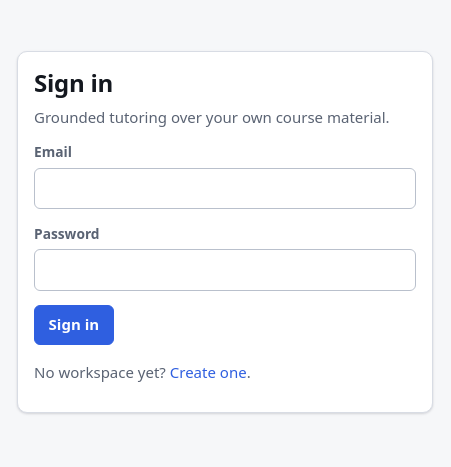
Test: login › surfaces the API error envelope, including the request id
This screenshot has width=451, height=467.
In the field labelled "Email": coordinates (225, 188) [34,168,416,209], type "student@example.edu"
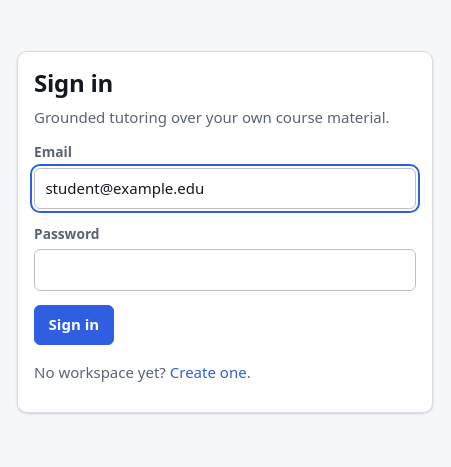
In the password field labelled "Password": coordinates (225, 270) [34,249,416,291], type "wrong-password"
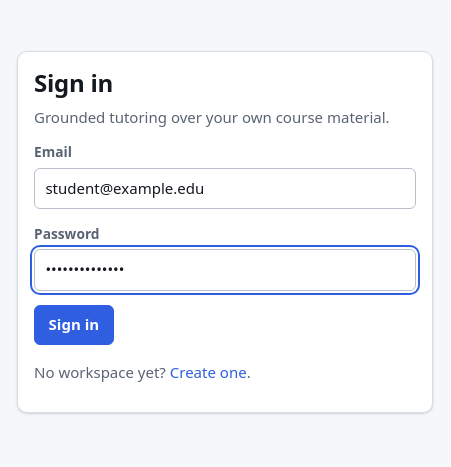
Click the button "Sign in": coordinates (74, 325) [34,305,114,345]
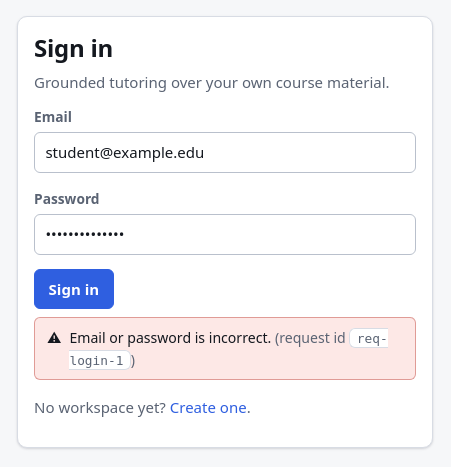
Result: the text "Email or password is incorrect." is shown at [69,328,271,347]
Result: the text "req-login-1" is shown at [69,328,388,370]
